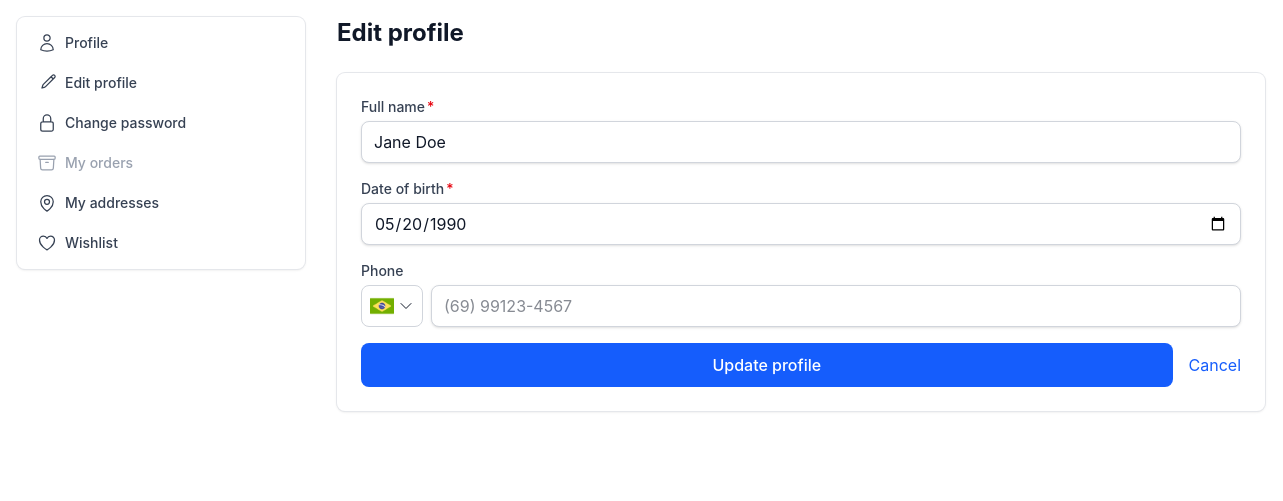
ProfileEditPage › submits the updated values, shows success feedback and refreshes the session state
Replace the text in the field labelled "Full name*" with "Jane Updated". click: (801, 142)
box: [361, 121, 1241, 163]
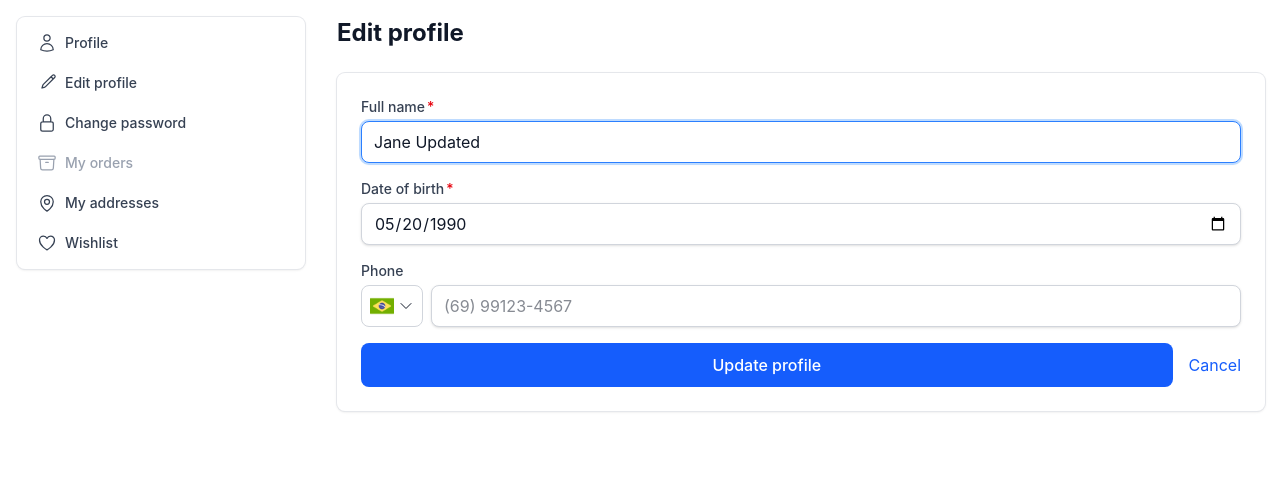
Type "11987654321" into the field labelled "Phone". click: (836, 306)
box: [431, 285, 1241, 327]
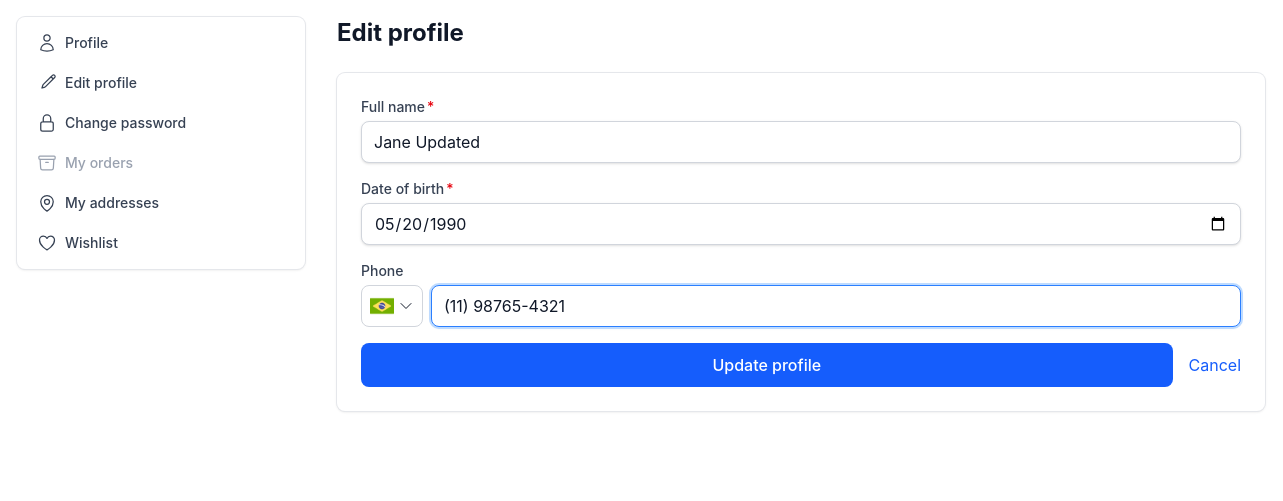
Click the button "Update profile". click: (767, 365)
box: [361, 343, 1172, 387]
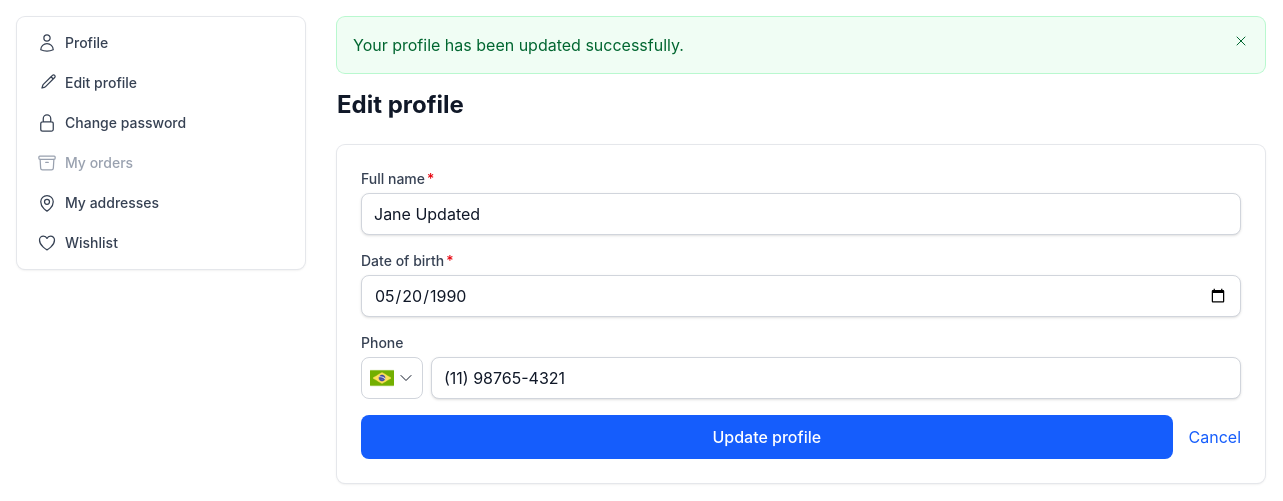
Check: the text "Your profile has been updated successfully." is shown, box [353, 35, 684, 55]
